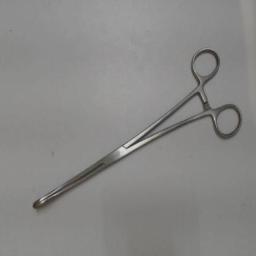Sponge Forceps: (26, 42, 248, 216)
